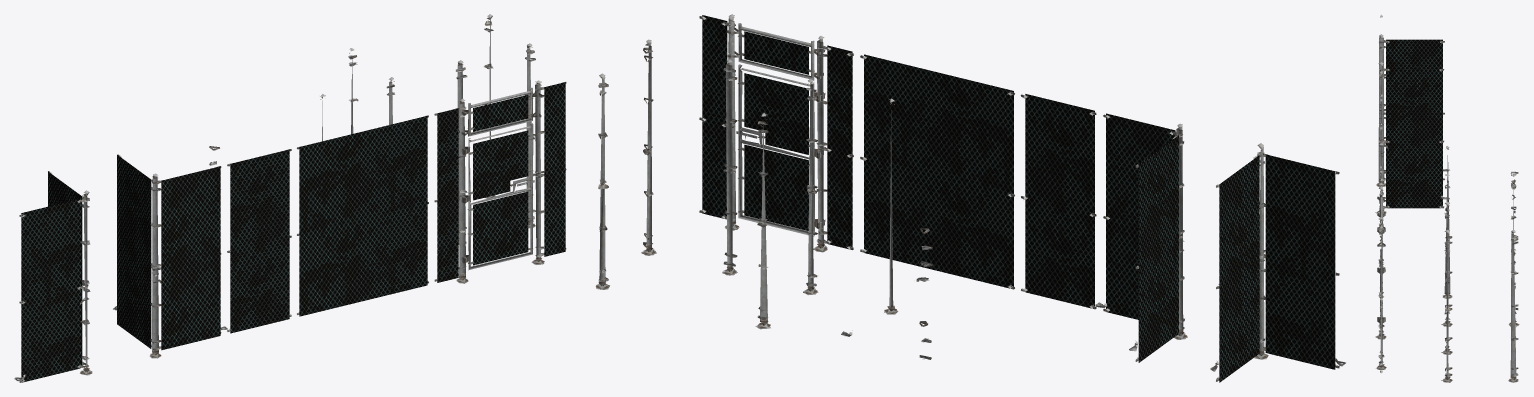
File: modular_chainlink_fence.glb
3 views of the same model, side by side, from view 1: azimuth 30°, elevation 25°; view 2: azimuth 150°, elevation 25°; view 3: azimuth 270°, elevation 25° (orthographic). The views are drawn at different scales.
Visible parts, largest first — view 1: modular_chainlink_fence_double, modular_chainlink_fence_corner_outer, modular_chainlink_fence_door_frame, modular_chainlink_fence_corner_inner, modular_chainlink_fence, modular_chainlink_fence_door_gate, modular_chainlink_fence_start_01_corner_01, modular_chainlink_post_middle; view 2: modular_chainlink_fence_double, modular_chainlink_fence_corner_inner, modular_chainlink_fence_corner_outer, modular_chainlink_fence_door_frame, modular_chainlink_fence, modular_chainlink_fence_door_gate, modular_chainlink_post_middle, modular_chainlink_fence_end_01, modular_chainlink_fence_start_01_corner_02, modular_chainlink_fence_start_01_corner_01, modular_chainlink_fence_end_02, modular_chainlink_fence_post; view 3: modular_chainlink_fence_corner_outer, modular_chainlink_fence_corner_inner, modular_chainlink_fence_door_frame, modular_chainlink_fence_start_01_corner_02, modular_chainlink_fence_start_01_corner_01, modular_chainlink_fence_post, modular_chainlink_post_middle, modular_chainlink_fence_end_01, modular_chainlink_fence_end_02.
Boxes of the visible parts, x1,y1,x2,y2 form: modular_chainlink_fence_double: (296, 115, 428, 316); modular_chainlink_fence_corner_outer: (113, 154, 227, 358); modular_chainlink_fence_door_frame: (434, 80, 566, 283); modular_chainlink_fence_corner_inner: (14, 171, 92, 382); modular_chainlink_fence: (227, 149, 291, 333); modular_chainlink_fence_door_gate: (467, 123, 533, 270); modular_chainlink_fence_start_01_corner_01: (525, 43, 535, 228); modular_chainlink_post_middle: (455, 60, 467, 244); modular_chainlink_fence_double: (860, 54, 1014, 289); modular_chainlink_fence_corner_inner: (1210, 143, 1345, 382); modular_chainlink_fence_corner_outer: (1095, 113, 1187, 362); modular_chainlink_fence_door_frame: (699, 14, 853, 252); modular_chainlink_fence: (1020, 94, 1096, 309); modular_chainlink_fence_door_gate: (738, 64, 814, 236); modular_chainlink_post_middle: (722, 59, 737, 275); modular_chainlink_fence_end_01: (803, 79, 818, 295); modular_chainlink_fence_start_01_corner_02: (595, 73, 609, 289); modular_chainlink_fence_start_01_corner_01: (641, 39, 656, 255); modular_chainlink_fence_end_02: (755, 113, 770, 329); modular_chainlink_fence_post: (884, 98, 898, 314); modular_chainlink_fence_corner_outer: (1375, 62, 1449, 213); modular_chainlink_fence_corner_inner: (1376, 14, 1449, 186); modular_chainlink_fence_door_frame: (1375, 182, 1386, 373); modular_chainlink_fence_start_01_corner_02: (1508, 229, 1518, 382); modular_chainlink_fence_start_01_corner_01: (1441, 229, 1452, 382); modular_chainlink_fence_post: (1442, 146, 1452, 298); modular_chainlink_post_middle: (1441, 201, 1452, 354); modular_chainlink_fence_end_01: (1441, 173, 1452, 326); modular_chainlink_fence_end_02: (1508, 173, 1519, 326).
Size of the model in its own units: 8.13 by 2.53 by 2.19.
Materials: 2 (2 with a texture image).
